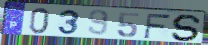0: (28, 7, 52, 35)
3: (56, 9, 83, 36)
5: (117, 11, 141, 39)
9: (88, 9, 111, 39)
F: (143, 13, 173, 39)
S: (170, 13, 204, 42)
